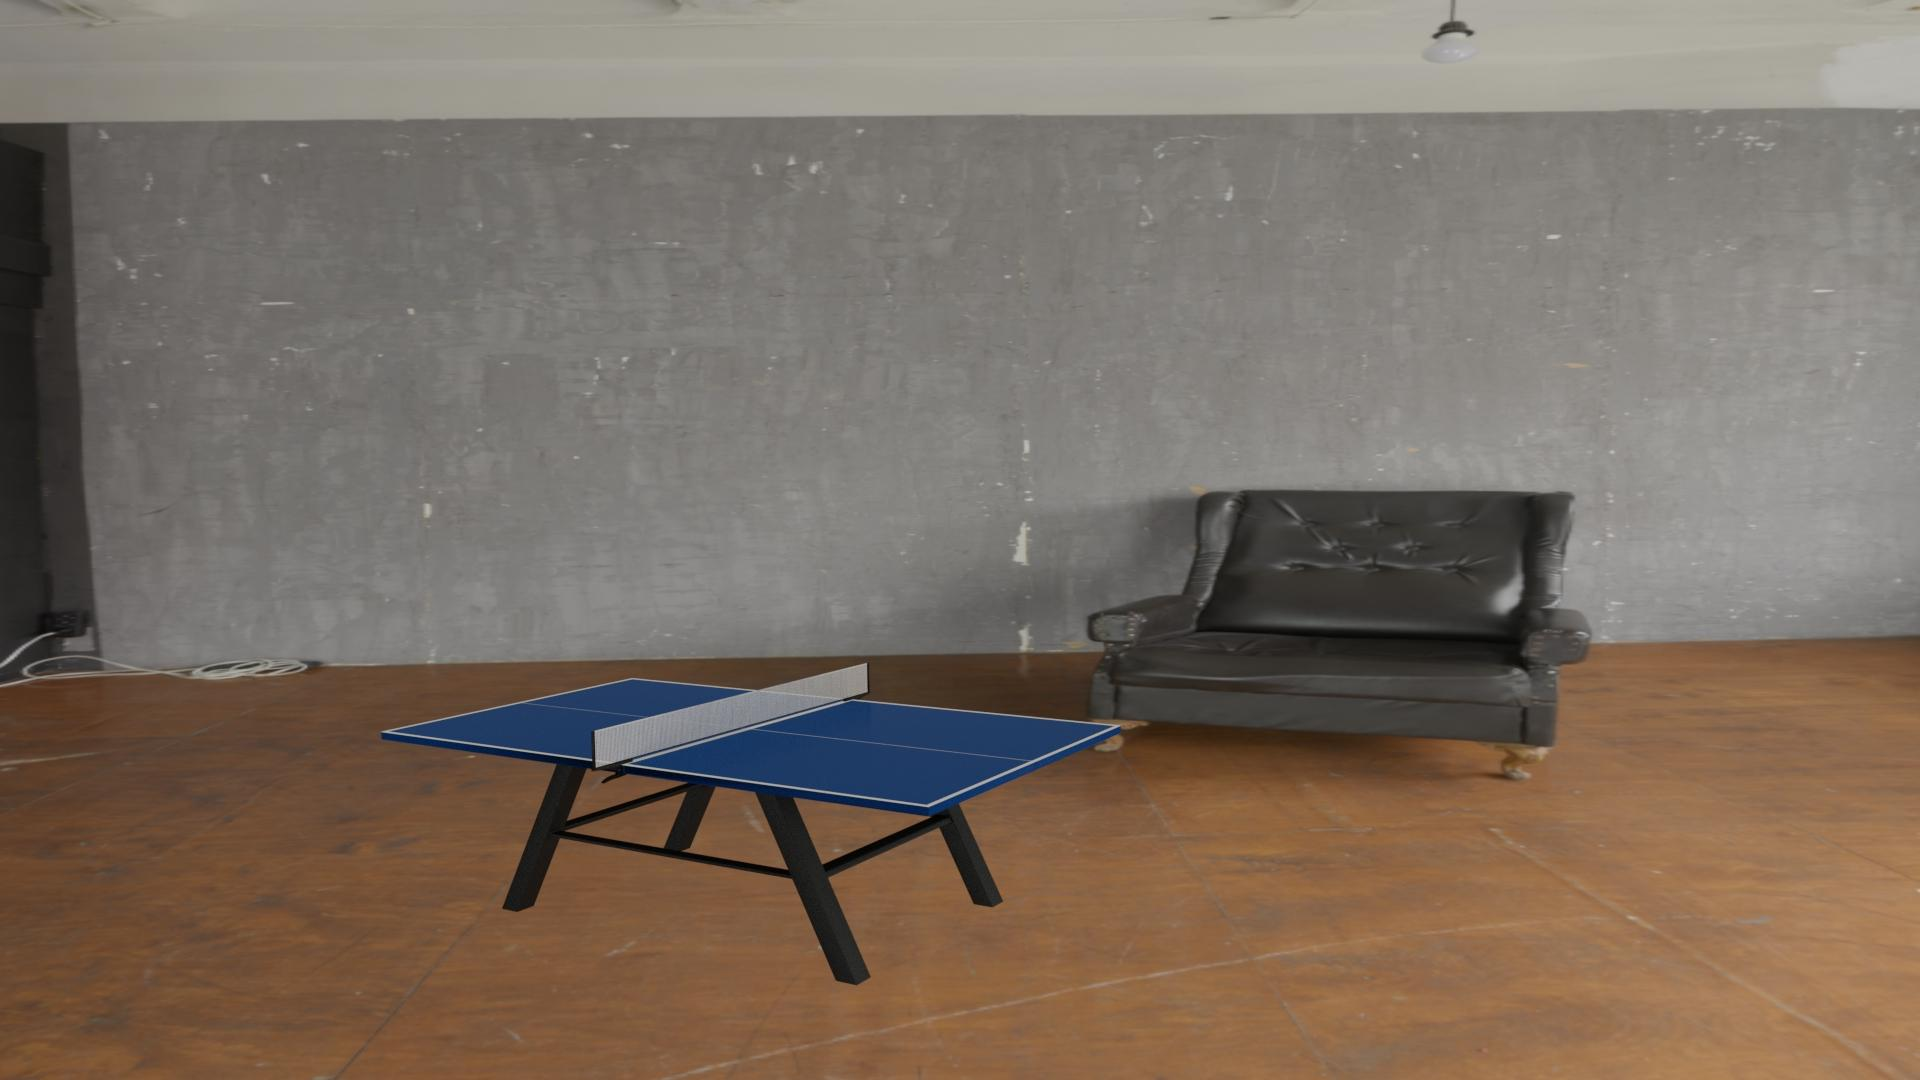table: (388, 679, 1114, 804)
